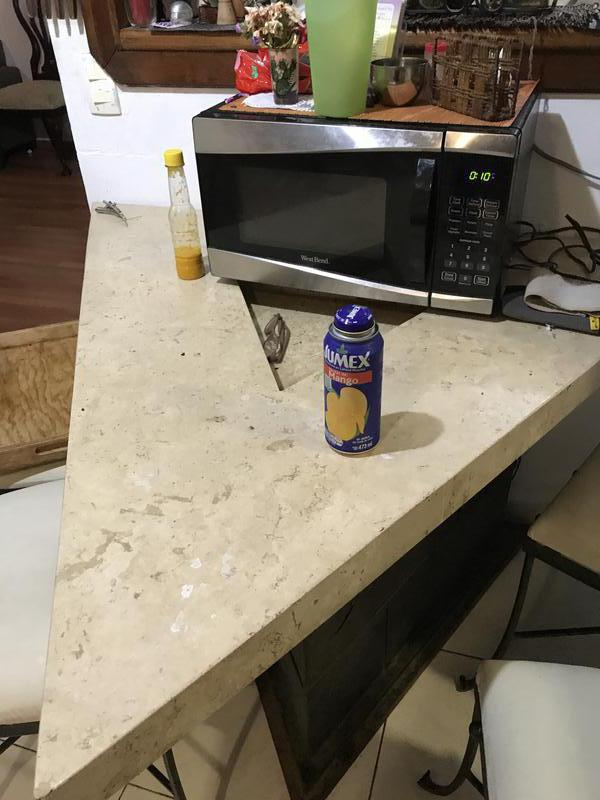jugo_jumex: (324, 305, 381, 453)
